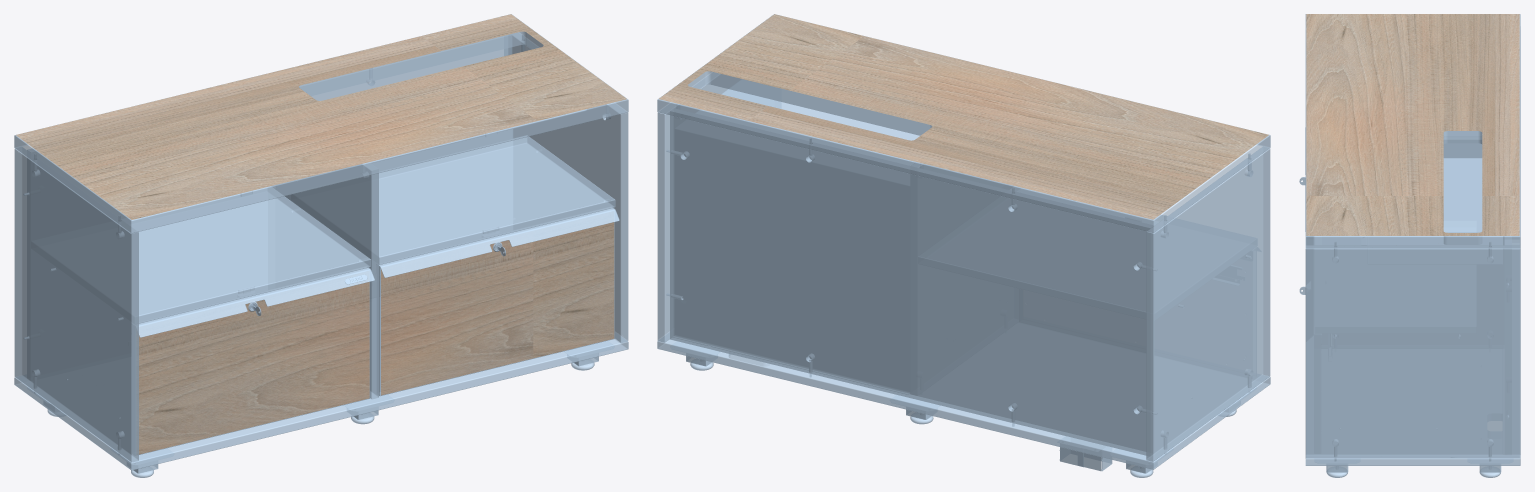
File: LKAL160000_IZ_120.glb
3 views of the same model, side by side, from view 1: azimuth 30°, elevation 25°; view 2: azimuth 150°, elevation 25°; view 3: azimuth 270°, elevation 25° (orthographic). The views are drawn at different scales.
Visible parts, largest first — view 1: 4 (×4), 66, 72, 59; view 2: 4 (×4), 59, 71; view 3: 4 (×4), 59.
Boxes of the visible parts, x1,y1,x2,y2 form: 4 (×4): (14,14,628,470); 66: (379,208,619,277); 72: (139,267,374,337); 59: (370,109,586,255); 4 (×4): (657,14,1270,469); 59: (673,79,931,394); 71: (1058,440,1112,471); 4 (×4): (1305,14,1520,465); 59: (1361,158,1502,249).
Bounding box in the file's own units: 1.23 × 0.643 × 0.5142.
Materials: 2 (1 with a texture image).
